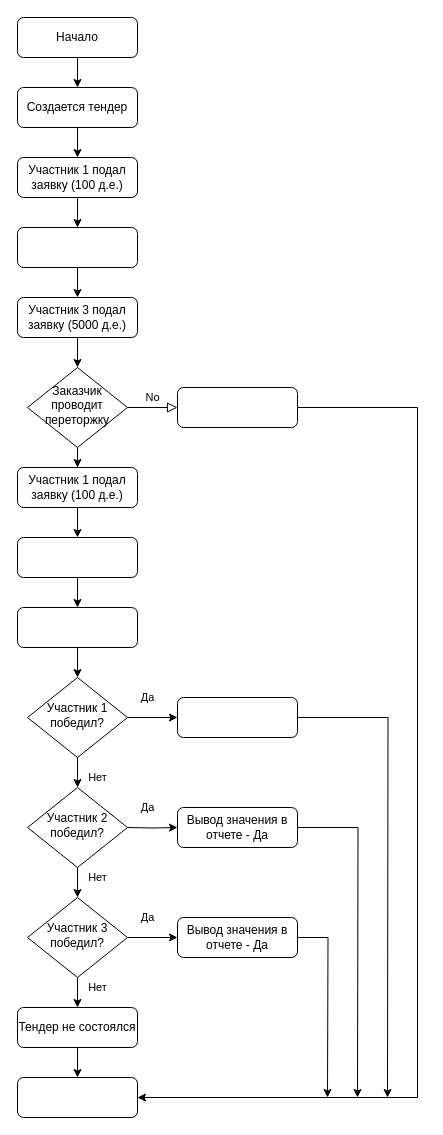
Image size: 443x1135. Some labels were removed from this diagram. Here are the shapes that lost their labels. From the top down, the box of each, then its label:
(16, 226, 138, 268): Участник 2 подал заявку (1000 д.е.)
(176, 386, 298, 428): Выбор победителя
(16, 536, 138, 578): Участник 2 подал заявку (999 д.е.)
(16, 606, 138, 648): Участник 3 подал заявку (4000 д.е.)
(176, 696, 298, 738): Вывод значения в отчете - Нет
(16, 1076, 138, 1118): Конец
